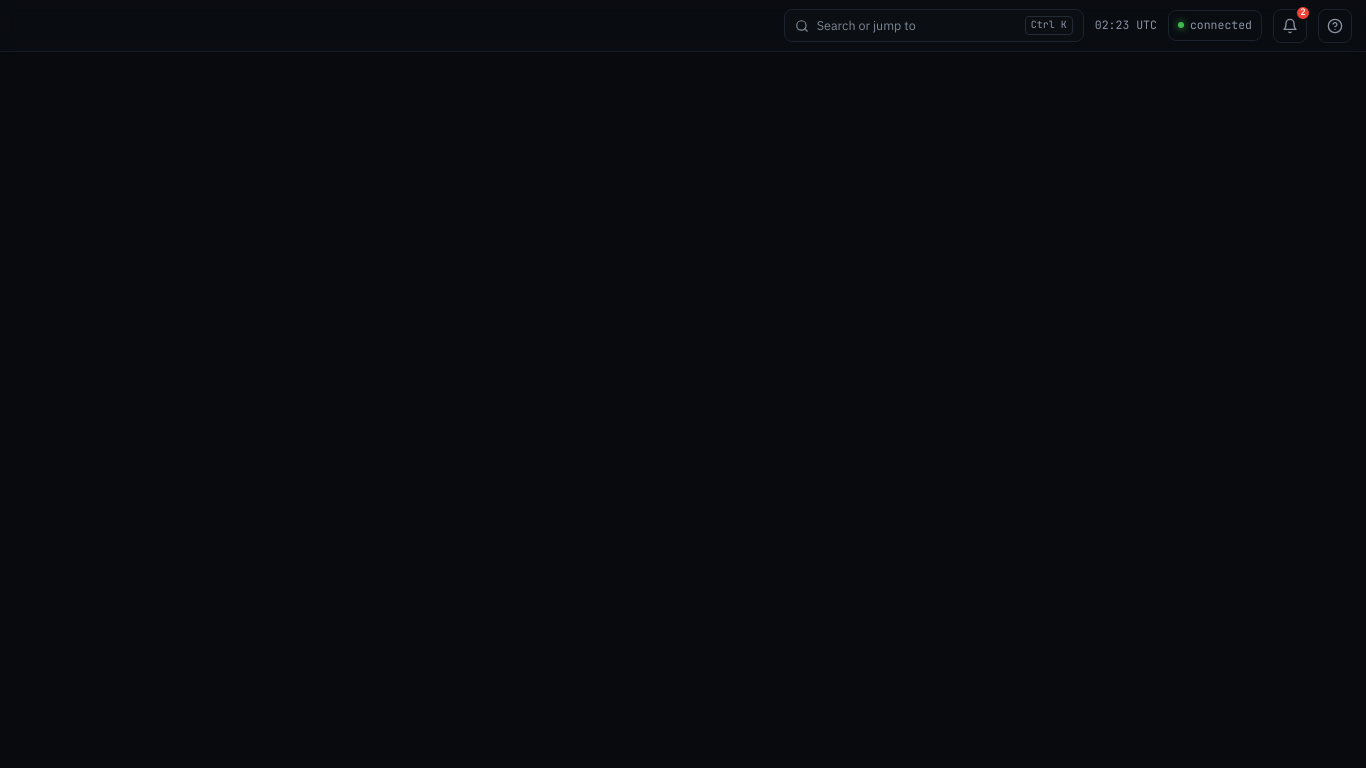
Scenario: Topbar dropdowns close like the account menu › names the count on the bell and states its state
Step 1. Click the button named "Notifications, 2 need you" → click(1290, 26), box x1=1273 y1=8 x2=1307 y2=42
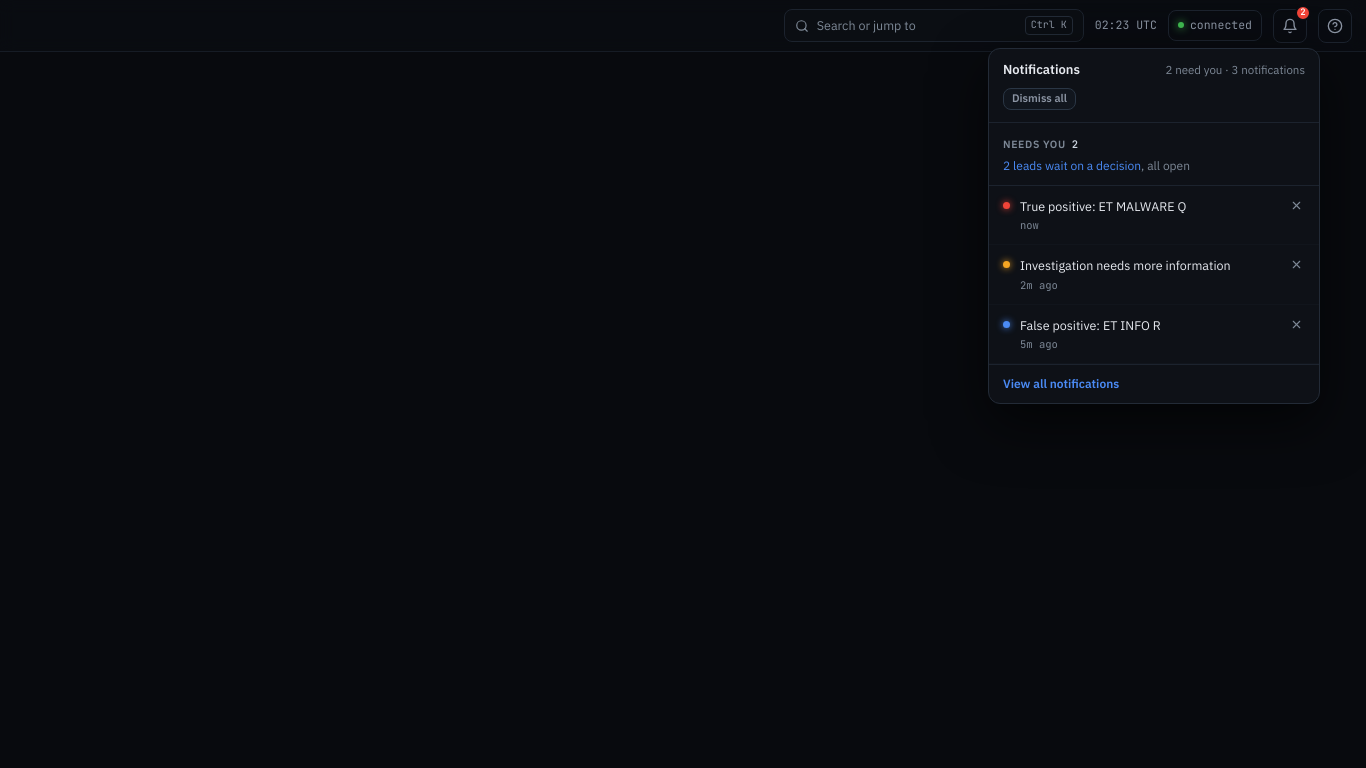
Now the text with test id "notif-summary" reads "2 need you · 3 notifications", box x1=1166 y1=62 x2=1305 y2=77
